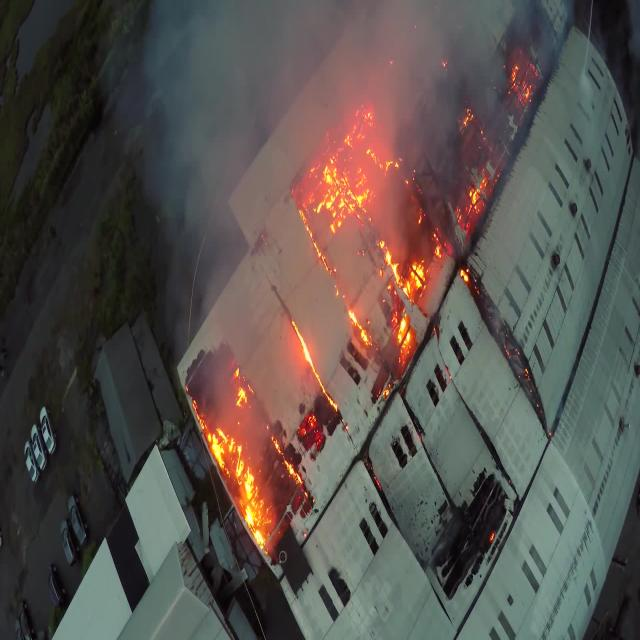Fire: (291, 87, 441, 359), (182, 344, 312, 557), (454, 83, 508, 242), (504, 44, 546, 108)
Smoke: (167, 0, 595, 492)
